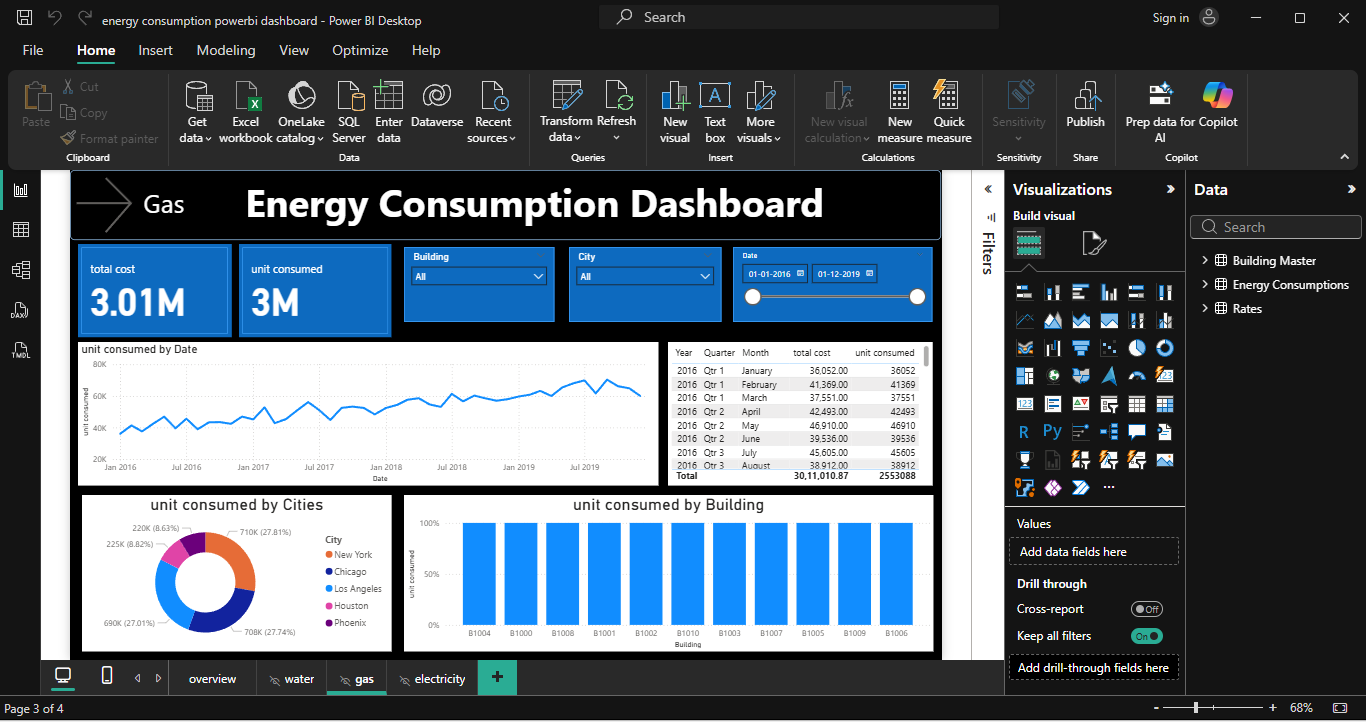

The page's visual inventory and layout, read from the dashboard file:
{"tool":"powerbi","page":{"name":"gas","canvas":[1280,720],"ordinal":2},"visuals":[{"type":"textbox","box":[0,0,1279.5,102.7],"z":0},{"type":"cardVisual","fields":{"Data":["Energy Consumptions.total cost"]},"box":[11.6,108.4,225.5,137.3],"z":1000},{"type":"cardVisual","fields":{"Data":["Energy Consumptions.unit consumed"]},"box":[248.7,108.4,224.1,137.3],"z":2000},{"type":"slicer","fields":{"Values":["Building Master.Building"]},"box":[490.1,112.8,221.2,109.9],"z":3000},{"type":"slicer","fields":{"Values":["Building Master.City"]},"box":[733,112.8,224.1,109.9],"z":4000},{"type":"slicer","fields":{"Values":["Energy Consumptions.Date"]},"box":[974.5,112.8,293.5,109.9],"z":5000},{"type":"tableEx","title":"total cost by time and Consumption type","fields":{"Values":["Energy Consumptions.Date.Variation.Date Hierarchy.Year","Energy Consumptions.Date.Variation.Date Hierarchy.Quarter","Energy Consumptions.Date.Variation.Date Hierarchy.Month","Energy Consumptions.total cost","Energy Consumptions.unit consumed"]},"box":[879,253,388.9,211.1],"z":6000},{"type":"donutChart","title":"unit consumed by Cities","fields":{"Y":["Energy Consumptions.unit consumed"],"Category":["Building Master.City"]},"box":[17.3,477.1,455.4,229.9],"z":7000},{"type":"hundredPercentStackedColumnChart","fields":{"Y":["Energy Consumptions.unit consumed"],"Category":["Energy Consumptions.Building"]},"box":[490.1,477.1,777.8,229.9],"z":8000},{"type":"textbox","box":[102.7,17.3,134.5,68],"z":9000},{"type":"lineChart","fields":{"Y":["Energy Consumptions.unit consumed"],"Category":["Energy Consumptions.Date"]},"box":[11.6,253,853,211.1],"z":10000},{"type":"actionButton","box":[0,0,99.2,103.7],"z":10001}]}

Visuals, with their boxes on the page's 1280x720 design canvas (x1, y1, x2, y2). These are canvas units, not pixel positions in the 1366x722 screenshot, which may show the page scaled, cropped or inside an application window:
textbox: BBox(0, 0, 1280, 103)
cardVisual - Energy Consumptions.total cost: BBox(12, 108, 237, 246)
cardVisual - Energy Consumptions.unit consumed: BBox(249, 108, 473, 246)
slicer - Building Master.Building: BBox(490, 113, 711, 223)
slicer - Building Master.City: BBox(733, 113, 957, 223)
slicer - Energy Consumptions.Date: BBox(974, 113, 1268, 223)
"total cost by time and Consumption type" tableEx: BBox(879, 253, 1268, 464)
"unit consumed by Cities" donutChart: BBox(17, 477, 473, 707)
hundredPercentStackedColumnChart - Energy Consumptions.unit consumed x Energy Consumptions.Building: BBox(490, 477, 1268, 707)
textbox: BBox(103, 17, 237, 85)
lineChart - Energy Consumptions.unit consumed x Energy Consumptions.Date: BBox(12, 253, 865, 464)
actionButton: BBox(0, 0, 99, 104)
